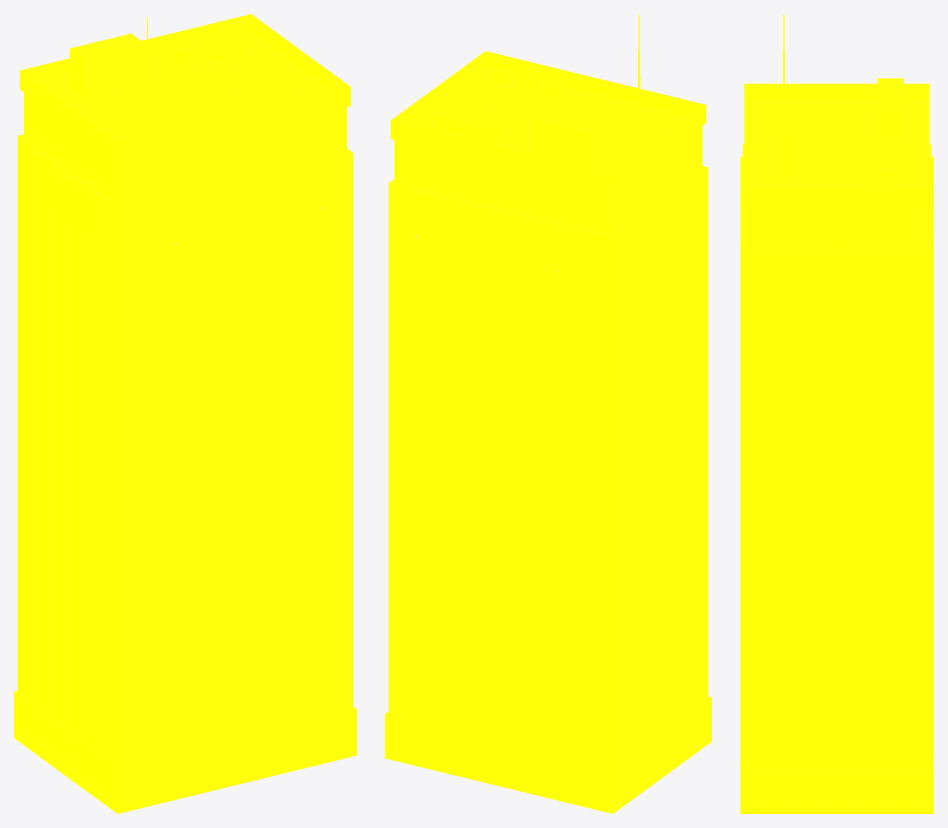
Rendered from building-office-tall.glb.
3 views of the same model, side by side, from view 1: azimuth 30°, elevation 25°; view 2: azimuth 150°, elevation 25°; view 3: azimuth 270°, elevation 25° (orthographic). The views are drawn at different scales.
Parts seen in each view (by area): view 1: building-office-tall; view 2: building-office-tall; view 3: building-office-tall.
Part boxes in pixels (x1,y1,x2,y2): building-office-tall: (14, 14, 356, 813); building-office-tall: (385, 14, 711, 813); building-office-tall: (740, 14, 933, 813).
Size of the model in its own units: 19.43 by 59.58 by 14.6.
1 material, 1 textured.
